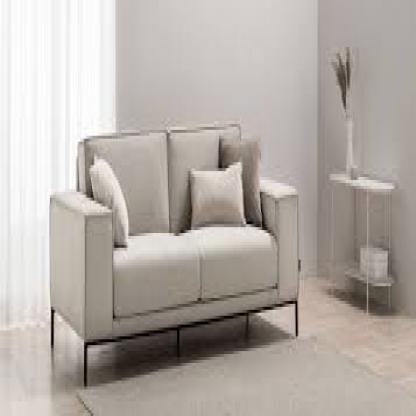sofa: (36, 130, 304, 363)
